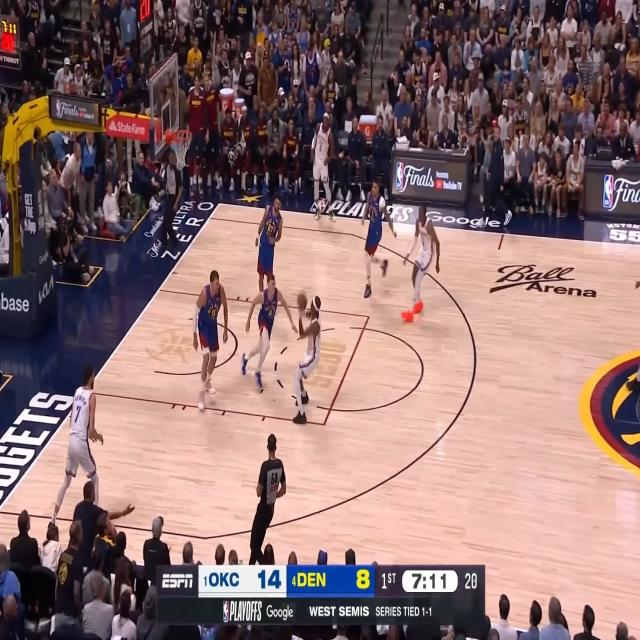ball: (296, 292, 307, 312)
number: (73, 404, 81, 424), (266, 221, 274, 233), (210, 307, 217, 318), (318, 143, 322, 153), (269, 310, 273, 316), (372, 209, 374, 217)
player: (47, 363, 104, 536), (240, 272, 298, 394), (194, 269, 228, 413), (400, 204, 440, 324), (361, 177, 397, 300), (254, 193, 283, 314), (309, 110, 336, 222)
player-dribble: (292, 293, 322, 425)
referee: (248, 432, 286, 566), (158, 147, 184, 255)
rim: (171, 127, 192, 143)
